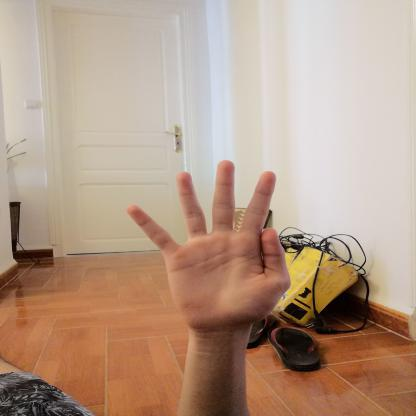SHEEN: (115, 152, 306, 340)
